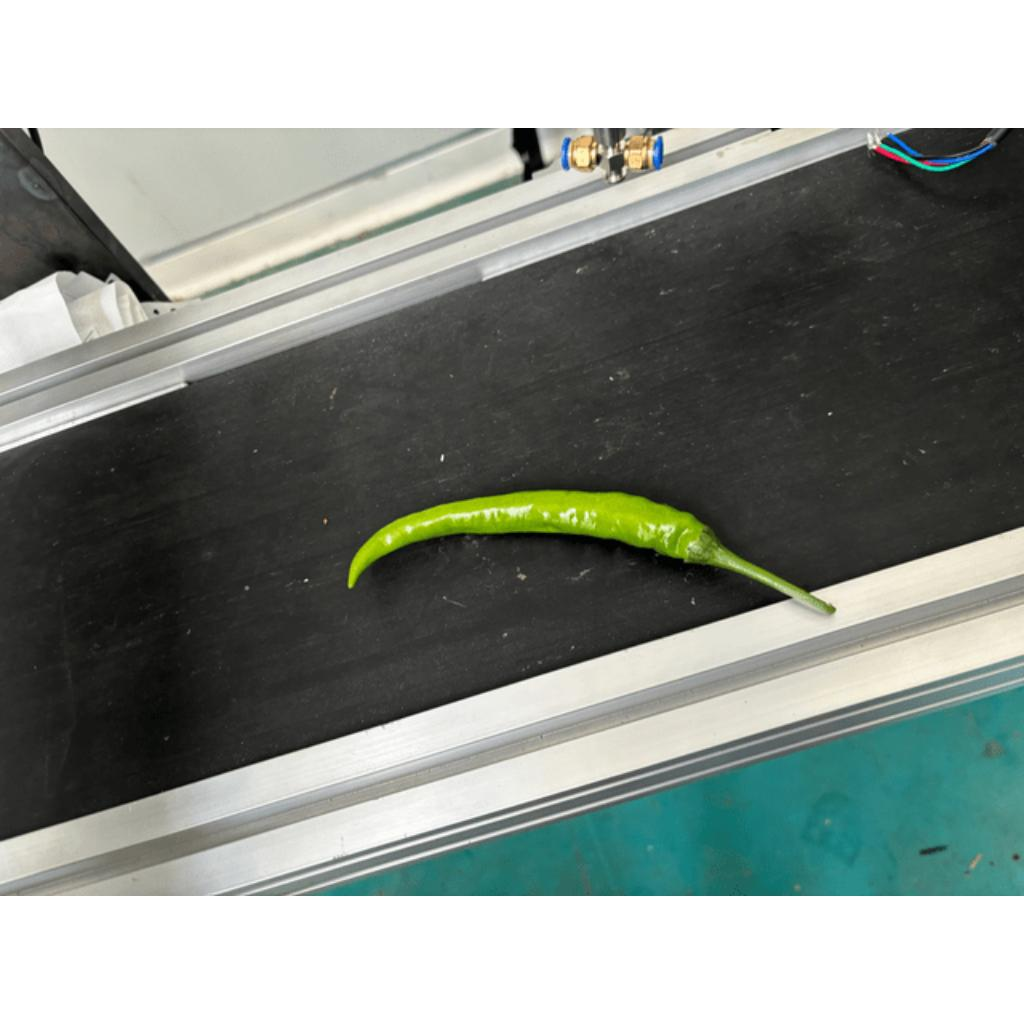chili: (346, 487, 723, 591)
